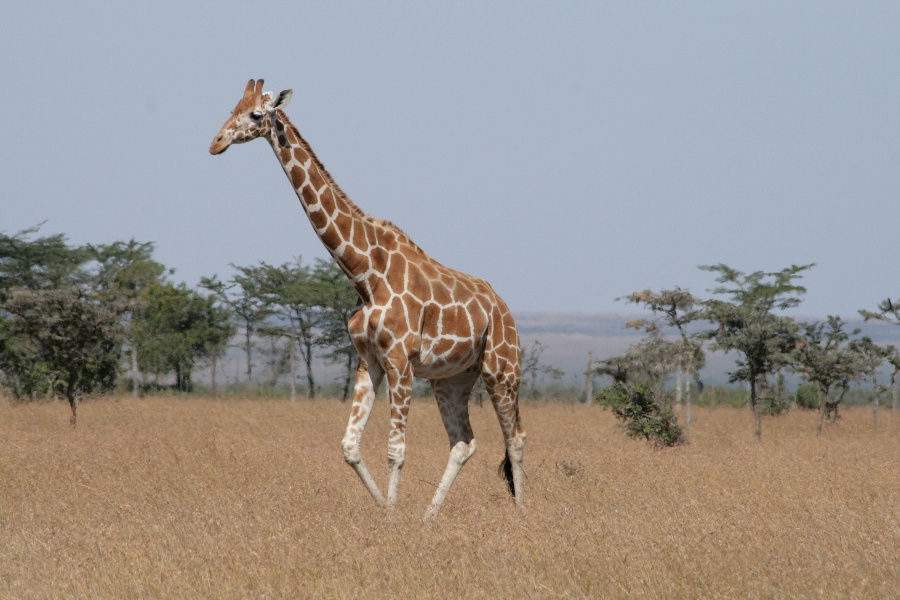giraffe: (201, 69, 546, 521)
